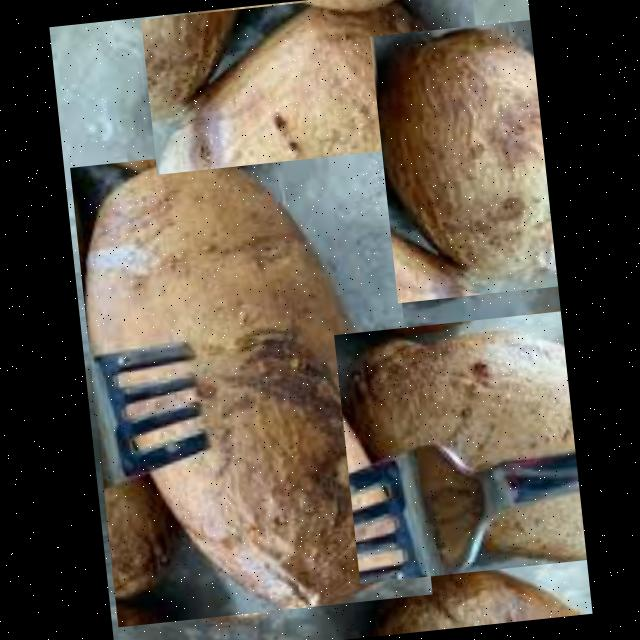Defected potato: (69, 134, 432, 627), (332, 311, 586, 583), (140, 0, 486, 174), (368, 20, 558, 302)
